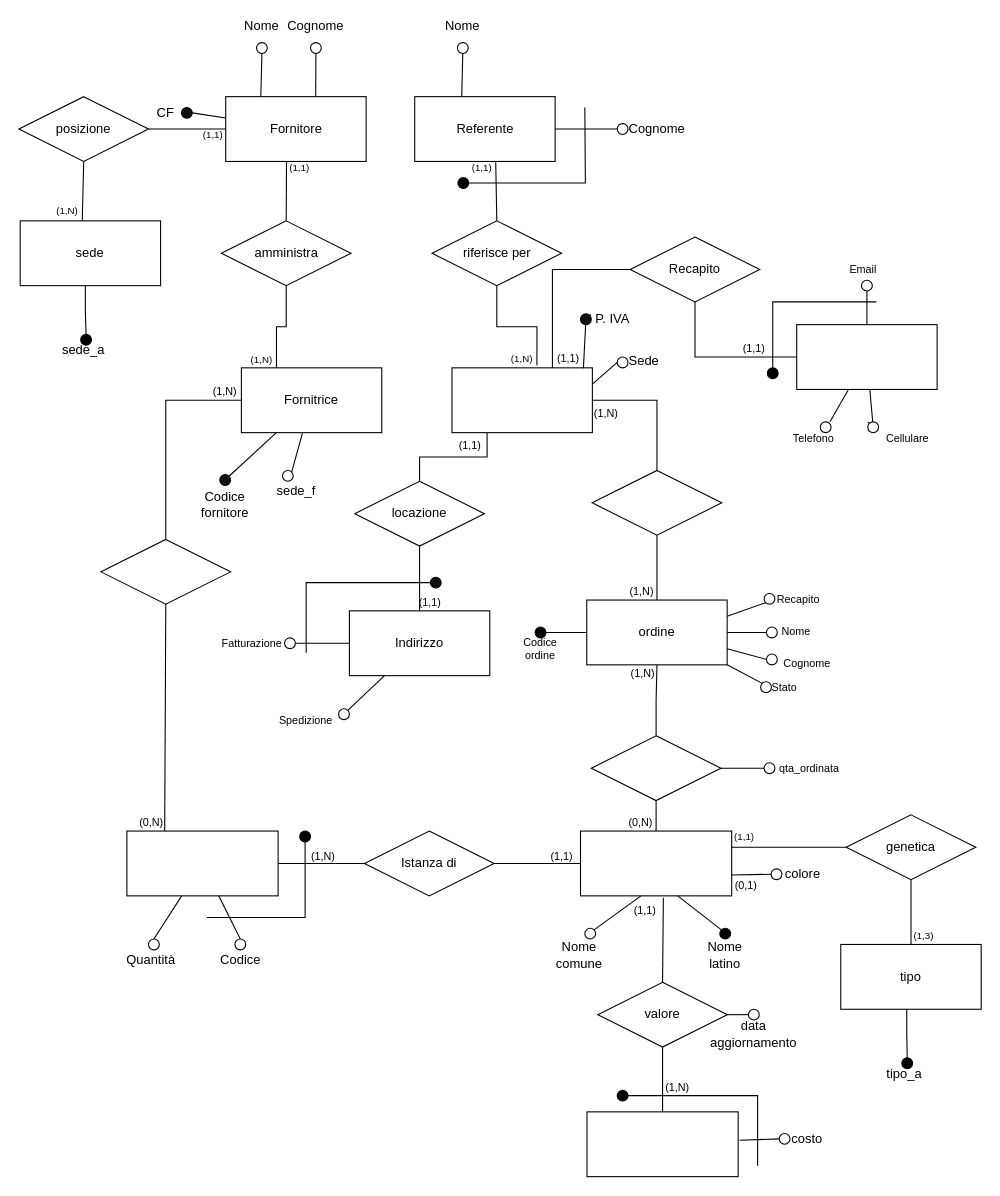
The diagram is 1000 pixels wide and 1196 high, and some of its shapes have lost their labels. Here are the shapes that lost their labels. From the top down, the box of each, then its label:
(796, 324, 937, 389): Contatto
(451, 367, 592, 433): Rivendita
(591, 469, 722, 535): effettua
(100, 538, 231, 604): rifornisce
(590, 735, 721, 801): contenuto
(126, 830, 278, 896): Pianta
(579, 830, 732, 896): Specie
(586, 1111, 738, 1177): Prezzo
